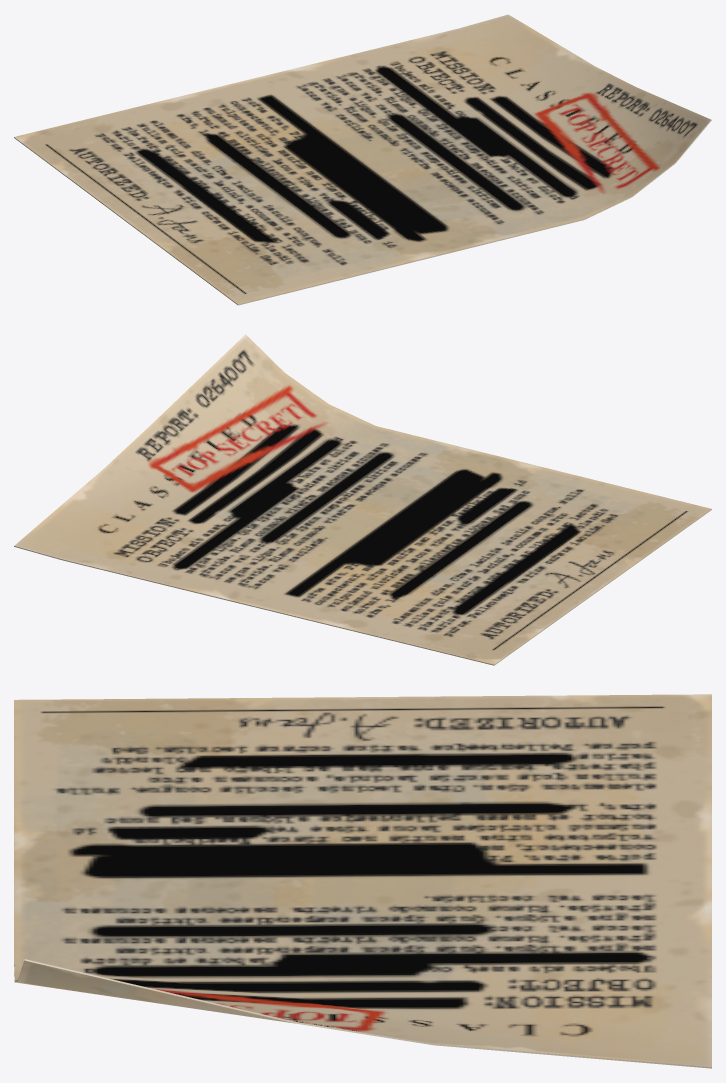
File: paper01_B.fbx
3 renders of one model, top to bottom at view 1: azimuth 30°, elevation 25°; view 2: azimuth 150°, elevation 25°; view 3: azimuth 270°, elevation 25°, orthographic. The views are drawn at different scales.
Visible parts, largest first — view 1: paper01_B; view 2: paper01_B; view 3: paper01_B.
Boxes of the visible parts, x1,y1,x2,y2 form: paper01_B: (14,14,711,305); paper01_B: (14,334,711,665); paper01_B: (14,694,711,1068).
Bounding box in the file's own units: 27.89 × 3.61 × 21.9.
